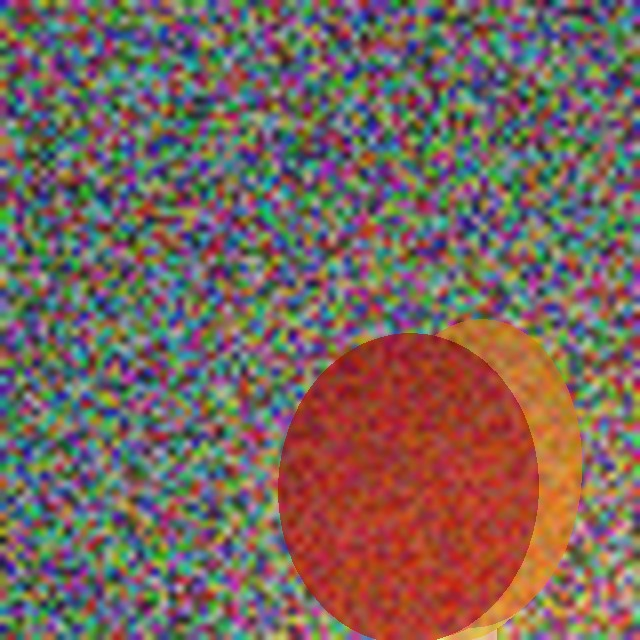fire: (309, 452, 585, 612)
